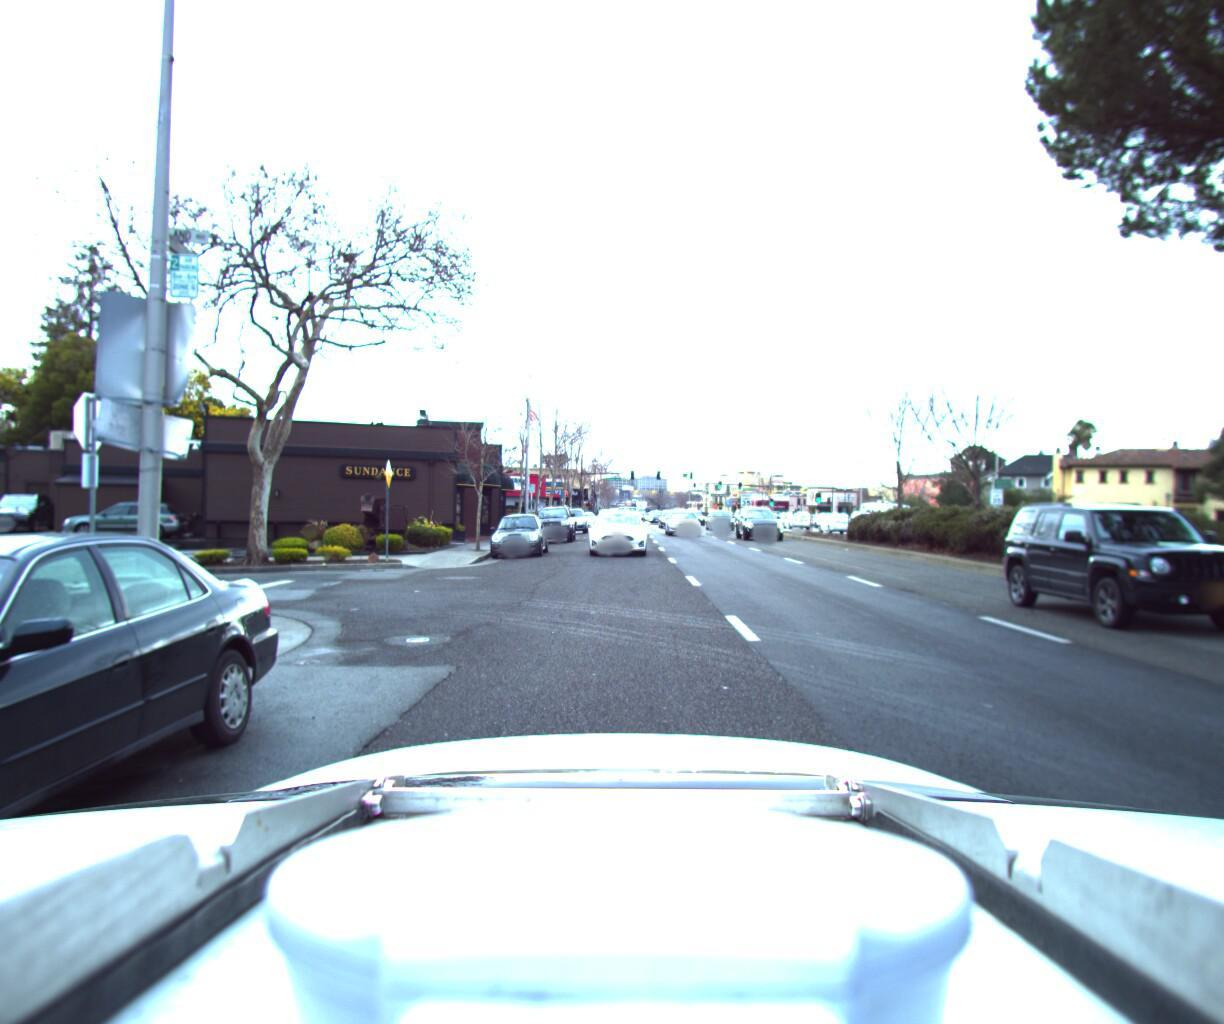car: (0, 510, 305, 1024), (1017, 486, 1224, 656), (586, 500, 646, 554), (485, 504, 548, 554), (734, 498, 792, 537), (526, 496, 576, 539), (662, 501, 702, 534), (556, 500, 589, 529), (814, 503, 855, 526), (608, 496, 639, 523), (703, 498, 735, 524), (780, 504, 811, 523), (687, 499, 710, 519), (642, 501, 665, 517)
other_vehicle: (855, 492, 910, 526)
